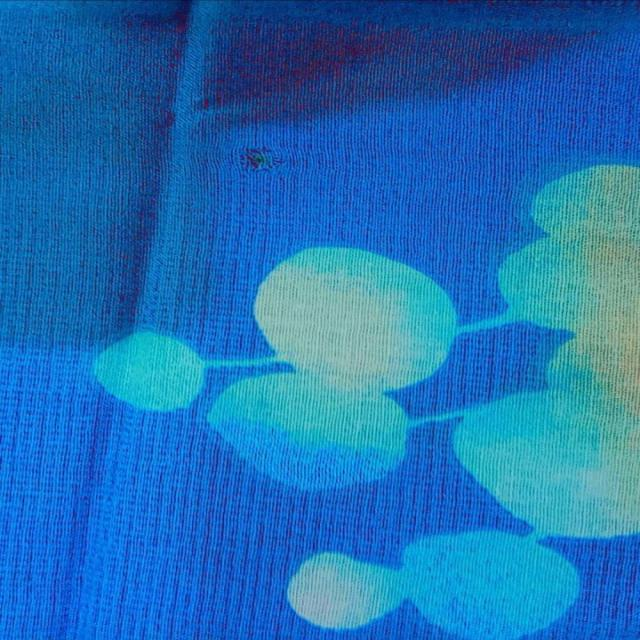cut: (230, 140, 296, 175)
